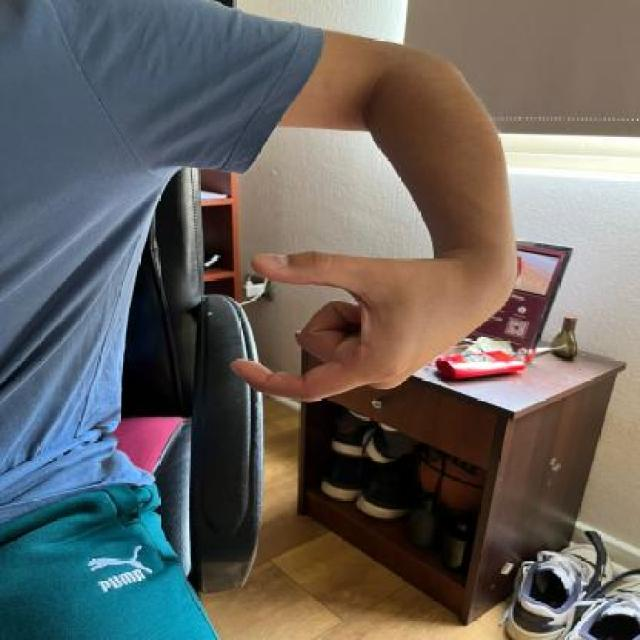G: (230, 237, 524, 405)
